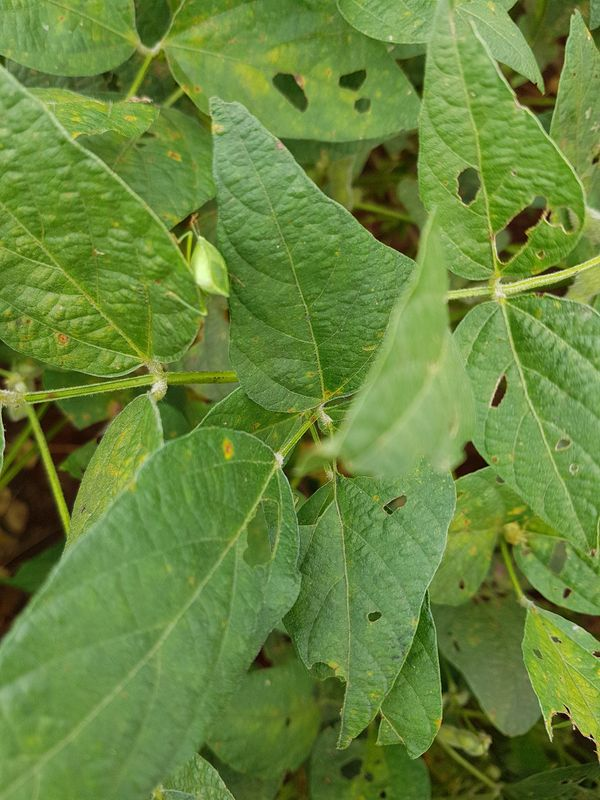Nezara_viridula_adulto: (159, 209, 254, 307)
